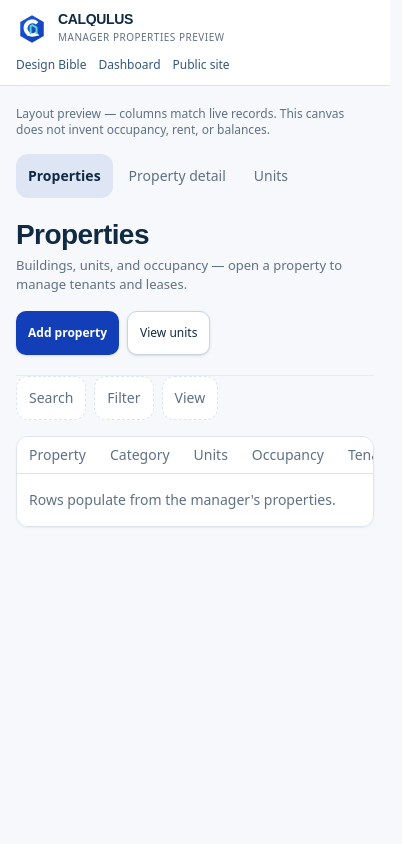
it: Manager properties layout preview › renders properties, detail, and units chrome without invented metrics
Expected: the heading "Properties" is shown, [16,218,149,252]
Expected: the button "Add property" is shown, [16,311,119,355]
Click the tab "Property detail": click(177, 176) [117,154,238,198]
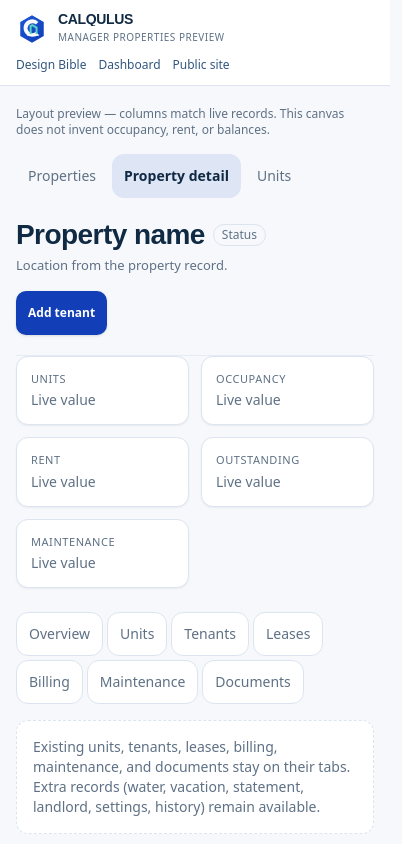
Expected: the heading "Property name" is shown, [16,218,205,252]
Expected: the text "Location from the property record." is shown, [16,256,228,274]
Expected: the button "Add tenant" is shown, [16,291,107,335]
Click the tab "Units": click(274, 176) [245,154,303,198]
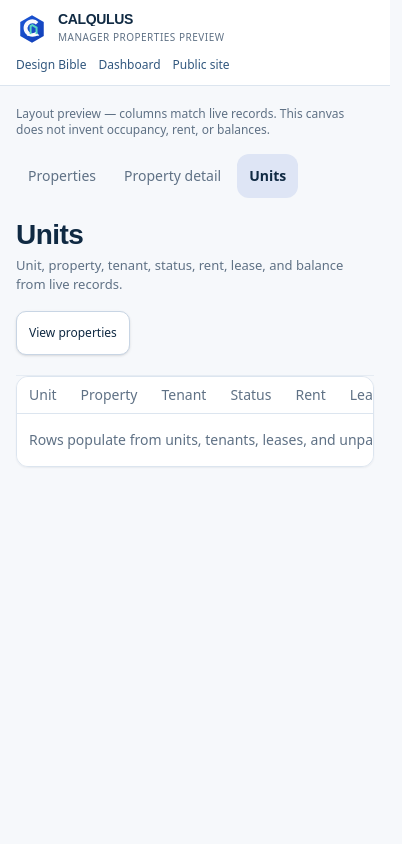
Expected: the column heading "Tenant" is shown, [150,377,218,413]
Expected: the heading "Units" is shown, [16,218,83,252]
Expected: the column heading "Unit" is shown, [17,377,69,413]
